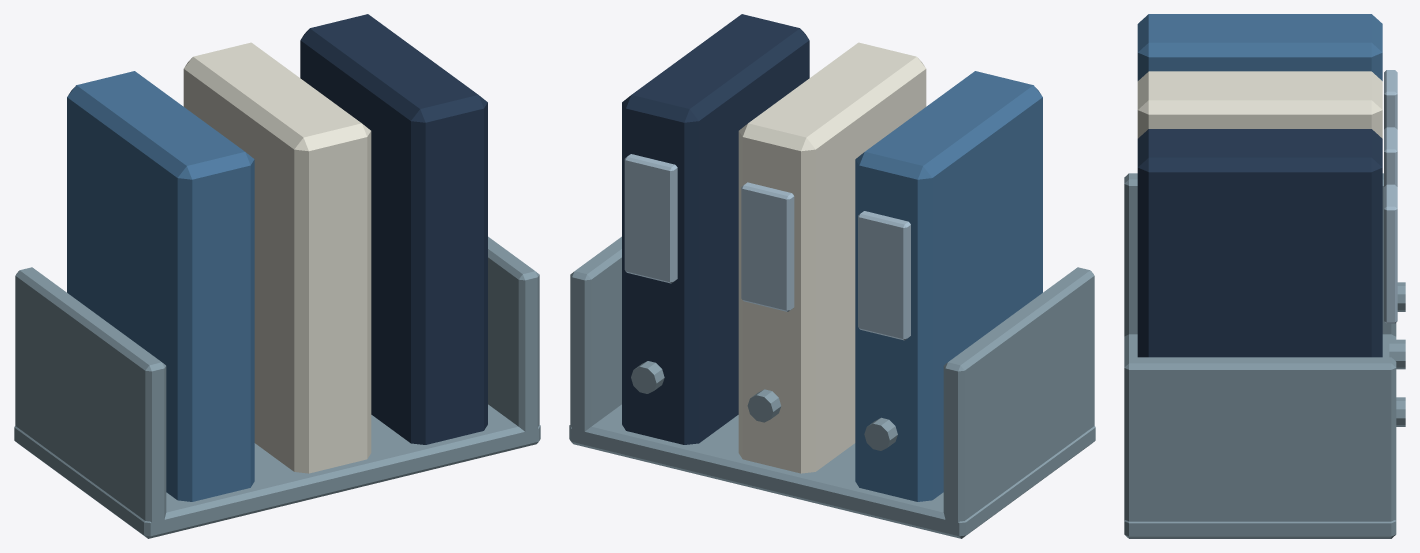
Rendered from binder_bookend_set.glb.
3 renders of one model, left to right at view 1: azimuth 30°, elevation 25°; view 2: azimuth 150°, elevation 25°; view 3: azimuth 270°, elevation 25°, orthographic.
Visible parts, largest first — view 1: binder (×3), bookend_side (×2), bookend_floor; view 2: binder (×3), bookend_side (×2), binder_label (×3), bookend_floor, binder_ring (×3); view 3: binder (×3), bookend_side (×2), bookend_floor, binder_label (×3), binder_ring.
Boxes of the visible parts, x1,y1,x2,y2 form: binder (×3): (67, 14, 487, 501); bookend_side (×2): (15, 236, 539, 527); bookend_floor: (14, 404, 540, 538); binder (×3): (622, 14, 1042, 501); bookend_side (×2): (570, 236, 1094, 532); binder_label (×3): (624, 154, 910, 340); bookend_floor: (569, 404, 1095, 538); binder_ring (×3): (631, 361, 897, 450); binder (×3): (1137, 14, 1382, 357); bookend_side (×2): (1124, 173, 1396, 521); bookend_floor: (1124, 334, 1396, 538); binder_label (×3): (1384, 70, 1397, 323); binder_ring: (1389, 339, 1405, 369).
Size of the model in its own units: 0.34 by 0.29 by 0.207.
